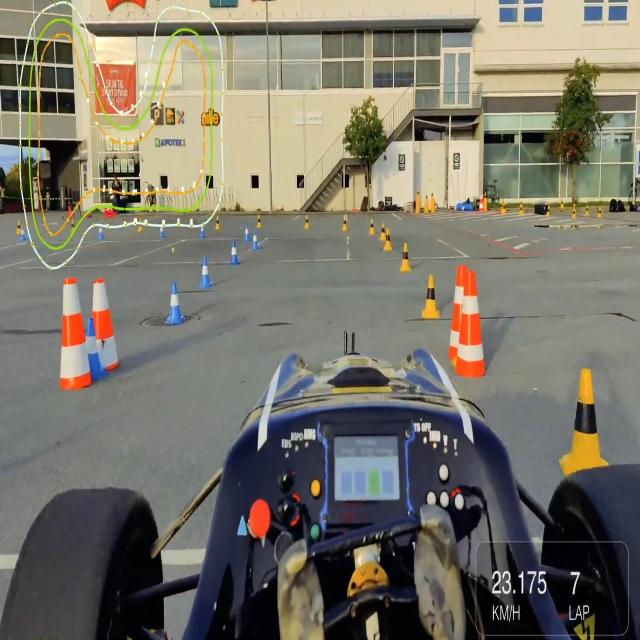blue_cone: (83, 319, 100, 382), (164, 281, 185, 325), (198, 256, 212, 291), (228, 237, 240, 267), (252, 228, 259, 250), (243, 223, 250, 242), (199, 223, 205, 239), (159, 223, 165, 238), (451, 263, 451, 264)
large_orange_cone: (61, 273, 91, 390), (458, 274, 485, 375), (448, 263, 473, 366), (90, 280, 117, 374), (478, 193, 484, 212)
yellow_cone: (559, 363, 611, 482), (452, 314, 476, 372), (420, 271, 441, 322), (399, 241, 413, 275), (384, 226, 394, 251), (379, 222, 387, 242), (369, 218, 376, 236), (303, 214, 310, 230), (342, 215, 348, 232), (215, 214, 221, 230), (138, 218, 144, 233), (257, 213, 262, 229), (416, 186, 420, 200), (425, 194, 428, 202)
